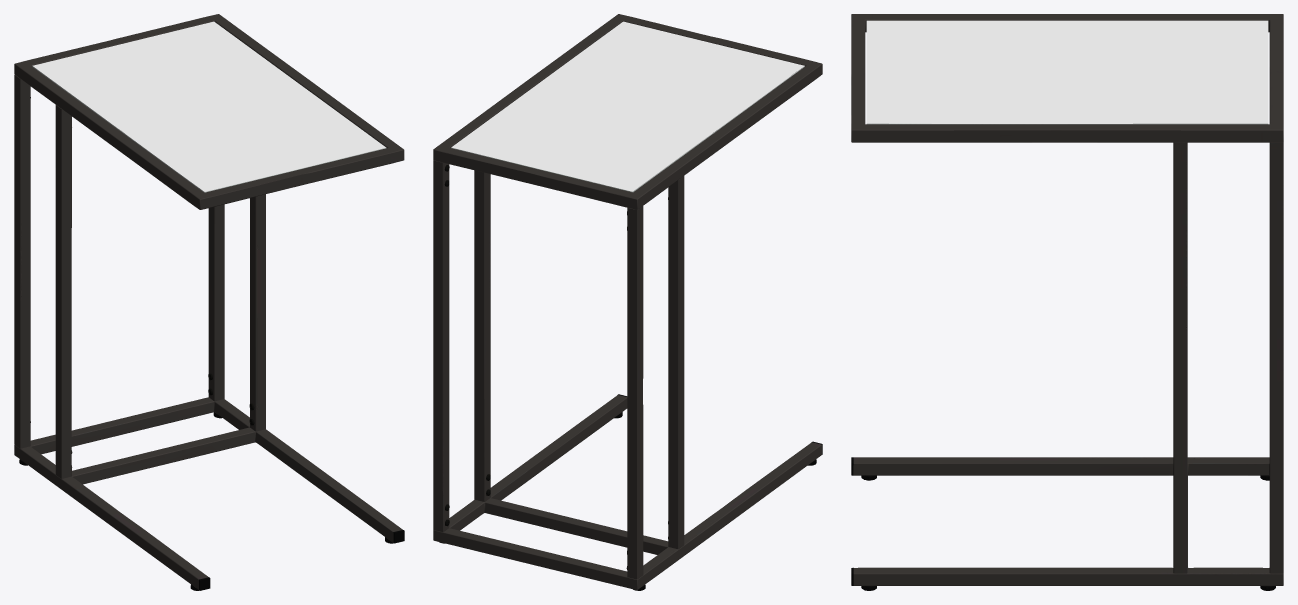
The model's file is CoolTable.glb.
3 renders of one model, left to right at view 1: azimuth 30°, elevation 25°; view 2: azimuth 150°, elevation 25°; view 3: azimuth 270°, elevation 25°, orthographic. The views are drawn at different scales.
Visible parts, largest first — view 1: VITTSJÖ_002.502.49, VITTSJÖ_002.502.001; view 2: VITTSJÖ_002.502.49, VITTSJÖ_002.502.001; view 3: VITTSJÖ_002.502.49, VITTSJÖ_002.502.001.
Part boxes in pixels (<box>): VITTSJÖ_002.502.49: <box>14,14,404,590</box>; VITTSJÖ_002.502.001: <box>32,21,385,191</box>; VITTSJÖ_002.502.49: <box>433,14,822,590</box>; VITTSJÖ_002.502.001: <box>451,21,804,191</box>; VITTSJÖ_002.502.49: <box>851,14,1283,590</box>; VITTSJÖ_002.502.001: <box>866,20,1268,123</box>.
Size of the model in its own units: 0.3518 by 0.6471 by 0.55.
2 materials, 2 textured.
